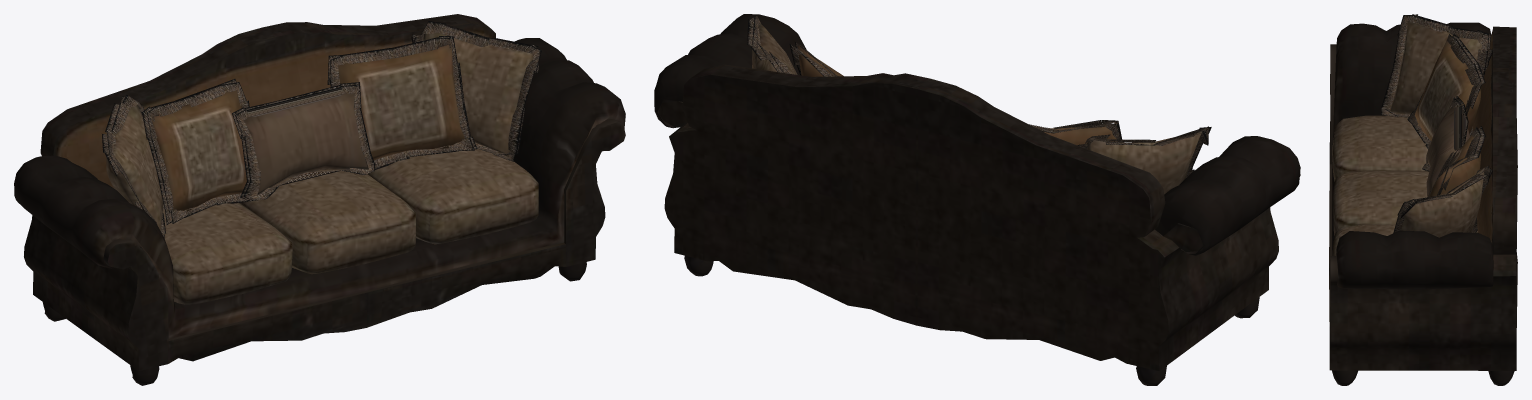
The model's file is sofa_03.glb.
The picture shows the model from 3 angles, left to right: view 1: azimuth 30°, elevation 25°; view 2: azimuth 150°, elevation 25°; view 3: azimuth 270°, elevation 25°; orthographic projection. The views are drawn at different scales.
Parts seen in each view (by area): view 1: sofa_03; view 2: sofa_03; view 3: sofa_03.
Boxes of the visible parts, x1,y1,x2,y2 form: sofa_03: [14, 14, 625, 385]; sofa_03: [654, 14, 1300, 385]; sofa_03: [1329, 14, 1517, 385].
Size of the model in its own units: 2.73 by 1.12 by 0.9236.
2 materials, 2 textured.
